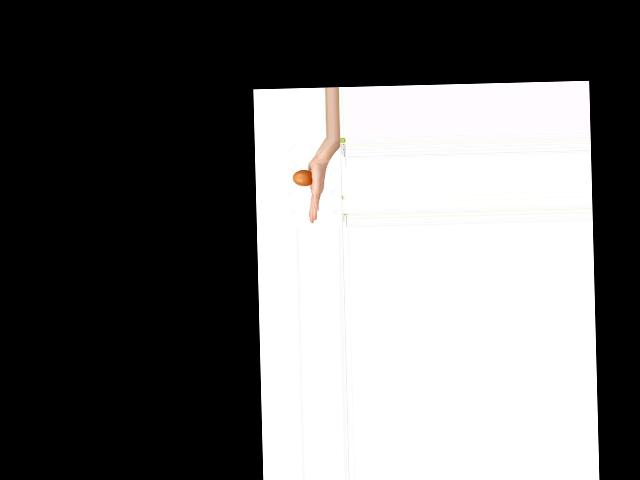egg: (293, 170, 313, 186)
